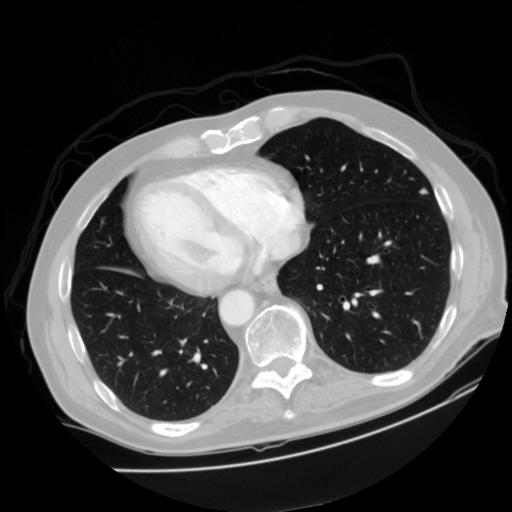nodule: (417, 182, 433, 198)
